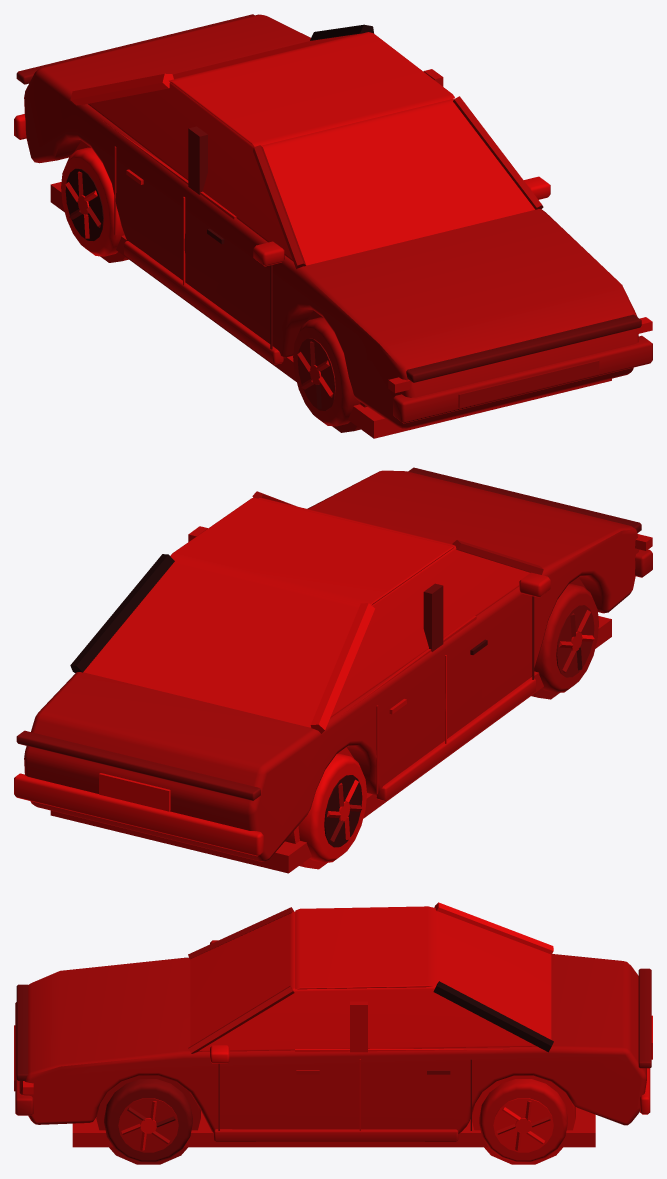
The model's file is car_sedan.glb.
The picture shows the model from 3 angles, top to bottom: view 1: azimuth 30°, elevation 25°; view 2: azimuth 150°, elevation 25°; view 3: azimuth 270°, elevation 25°; orthographic projection. The views are drawn at different scales.
Parts seen in each view (by area): view 1: car_sedan, wheel_0, wheel_2; view 2: car_sedan, wheel_2, wheel_0; view 3: car_sedan, wheel_1, wheel_3.
Part boxes in pixels (x1,y1,x2,y2): car_sedan: (14, 14, 652, 438); wheel_0: (293, 317, 360, 426); wheel_2: (61, 147, 124, 256); car_sedan: (14, 467, 652, 873); wheel_2: (298, 754, 366, 862); wheel_0: (534, 584, 598, 692); car_sedan: (14, 902, 652, 1164); wheel_1: (104, 1079, 192, 1162); wheel_3: (479, 1079, 567, 1162).
Size of the model in its own units: 2.06 by 1.5 by 4.89.
